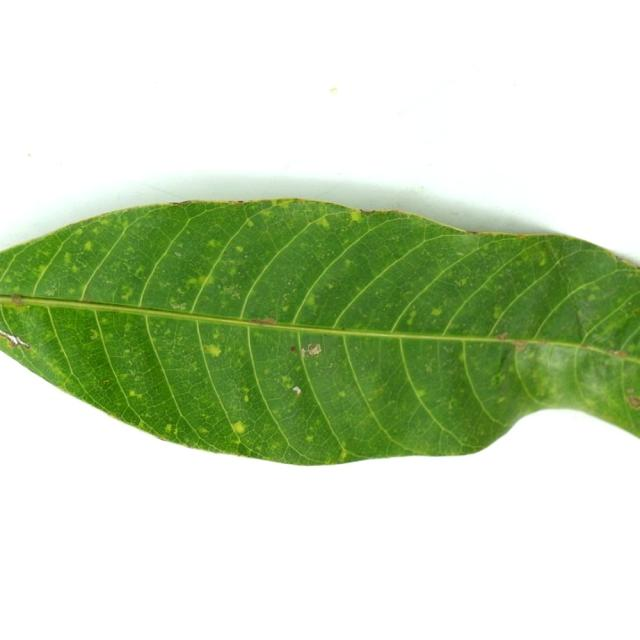Mango: (0, 200, 639, 464)
Powdery_Mildew: (201, 341, 230, 364), (5, 298, 33, 313), (219, 283, 242, 300), (576, 306, 597, 324), (624, 388, 640, 409), (616, 256, 640, 269), (302, 343, 322, 357), (534, 379, 549, 396), (119, 286, 134, 301), (513, 340, 529, 352), (490, 373, 504, 386), (405, 309, 417, 324), (51, 365, 64, 378), (317, 216, 330, 228), (305, 292, 316, 306), (233, 422, 246, 433), (350, 211, 362, 222), (137, 420, 149, 431), (455, 277, 468, 287), (281, 375, 292, 386), (171, 302, 186, 310), (430, 307, 443, 316), (207, 239, 220, 248), (83, 240, 93, 251), (198, 275, 209, 285), (493, 308, 503, 319), (227, 265, 237, 276), (134, 266, 145, 276), (339, 449, 348, 461), (89, 329, 99, 339), (270, 442, 281, 451), (44, 288, 56, 296), (496, 332, 508, 340), (70, 264, 79, 274), (37, 265, 47, 274), (344, 258, 354, 267), (424, 363, 433, 373), (416, 390, 427, 398), (587, 293, 598, 301), (245, 219, 255, 227), (539, 256, 547, 266), (448, 400, 456, 410), (197, 427, 208, 434), (459, 352, 466, 363), (165, 424, 173, 433), (235, 245, 244, 253), (232, 437, 241, 445), (240, 386, 249, 394), (212, 329, 220, 338), (497, 396, 507, 403), (281, 304, 289, 312), (354, 285, 362, 293), (338, 391, 347, 398), (305, 435, 314, 442), (109, 412, 118, 419), (326, 282, 334, 289), (75, 228, 83, 235), (100, 318, 108, 325), (191, 363, 198, 371), (255, 444, 263, 451), (164, 327, 171, 335), (243, 394, 249, 403), (129, 390, 136, 397), (294, 364, 301, 371), (174, 251, 182, 257), (264, 368, 270, 375), (456, 251, 464, 256), (124, 348, 130, 354), (103, 380, 110, 385)
